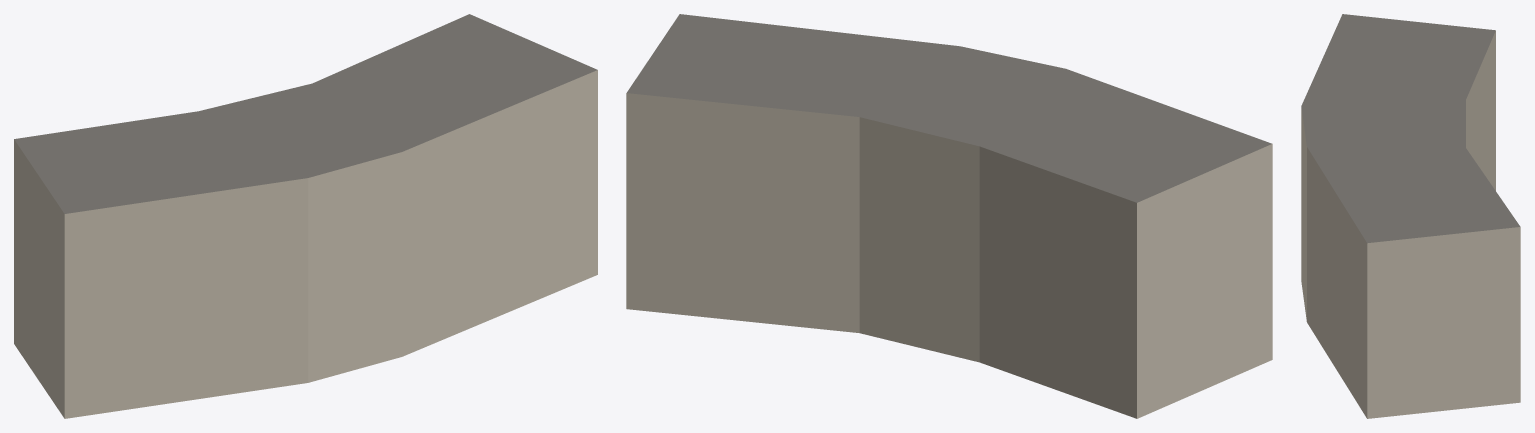
The picture shows the model from 3 angles, left to right: view 1: azimuth 30°, elevation 25°; view 2: azimuth 150°, elevation 25°; view 3: azimuth 270°, elevation 25°; orthographic projection. The views are drawn at different scales.
Visible parts, largest first — view 1: HP-w859488784; view 2: HP-w859488784; view 3: HP-w859488784.
Boxes of the visible parts, x1,y1,x2,y2 form: HP-w859488784: [14, 14, 597, 418]; HP-w859488784: [626, 14, 1272, 418]; HP-w859488784: [1301, 14, 1520, 418].
Bounding box in the file's own units: 50.35 × 18 × 20.35.
